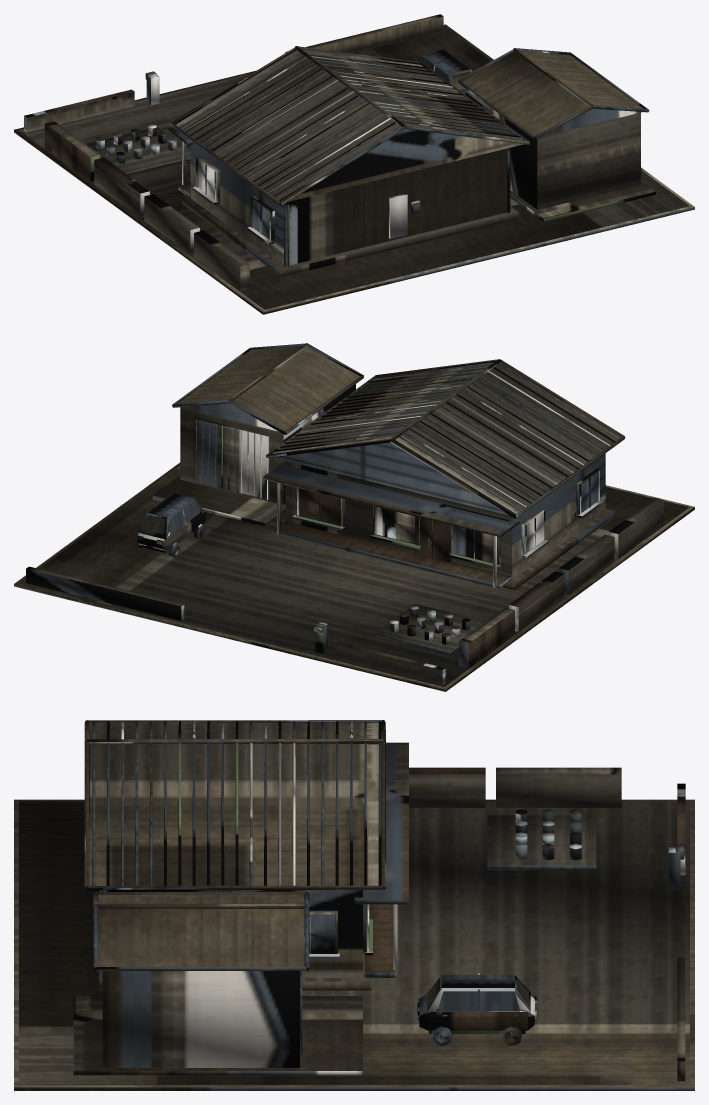
Rendered from rural_house_002.lod1.obj.
3 renders of one model, top to bottom at view 1: azimuth 30°, elevation 25°; view 2: azimuth 150°, elevation 25°; view 3: azimuth 270°, elevation 25°, orthographic. The views are drawn at different scales.
Visible parts, largest first — view 1: rural_house_002; view 2: rural_house_002; view 3: rural_house_002.
Boxes of the visible parts, <box> form: rural_house_002: <box>14,14,694,314</box>; rural_house_002: <box>14,343,694,691</box>; rural_house_002: <box>14,720,694,1090</box>.
Bounding box in the file's own units: 20 × 5.71 × 20.
1 material, 1 textured.
